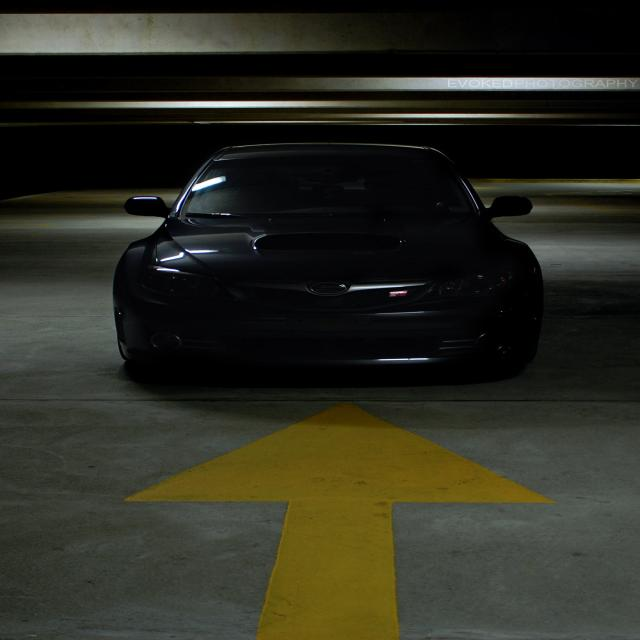car: (88, 115, 556, 405)
